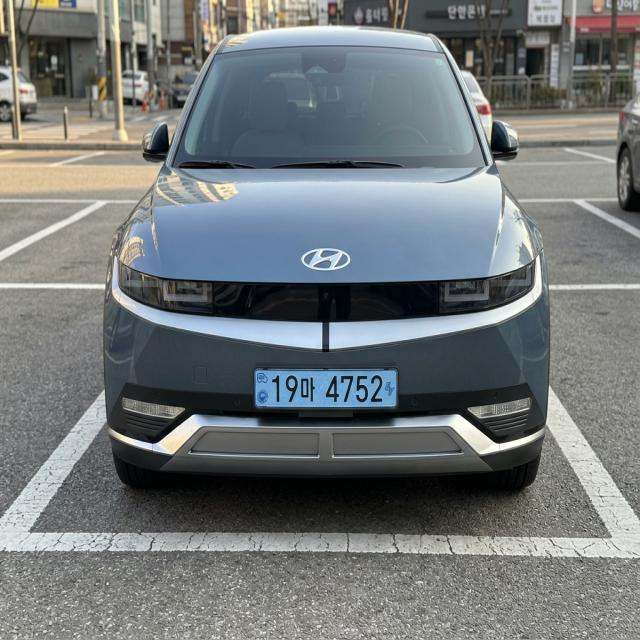car: (235, 358, 428, 439)
carev: (383, 366, 399, 416), (254, 368, 271, 415)
